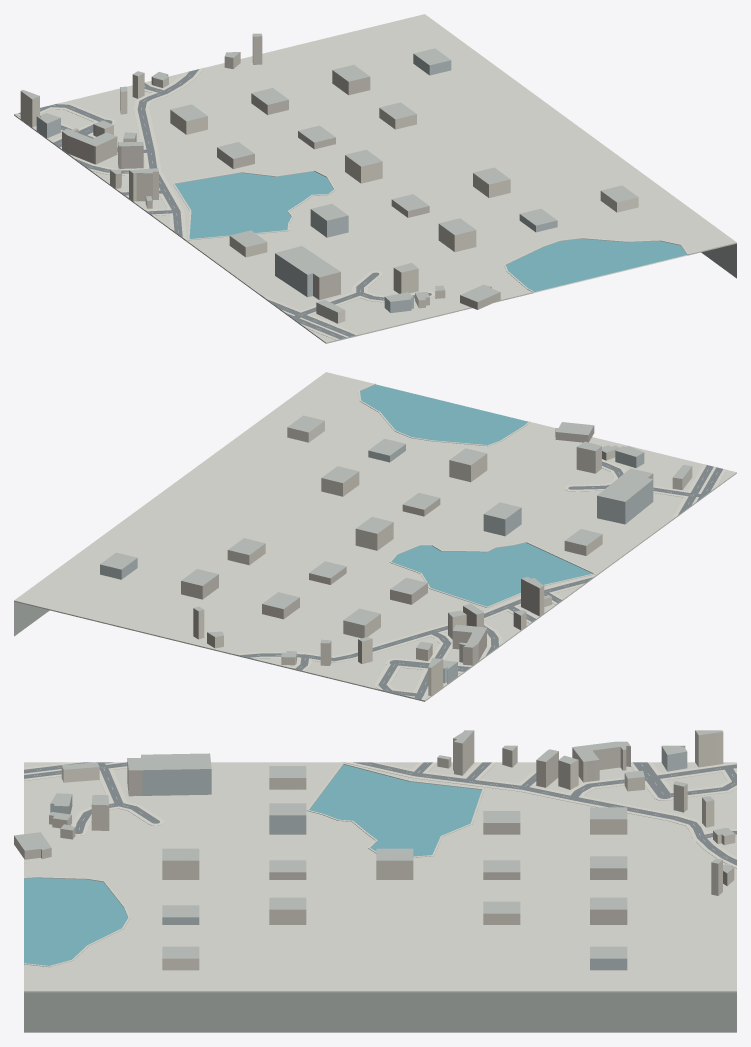
3 views of the same model, one above another, from view 1: azimuth 30°, elevation 25°; view 2: azimuth 150°, elevation 25°; view 3: azimuth 270°, elevation 25° (orthographic). The views are drawn at different scales.
Parts seen in each view (by area): view 1: city; view 2: city; view 3: city.
Part boxes in pixels (left/top/right/bottom): city: left=14, top=14, right=736, bottom=343; city: left=14, top=372, right=736, bottom=701; city: left=14, top=730, right=736, bottom=1032.
Size of the model in its own units: 380 by 57 by 507.
